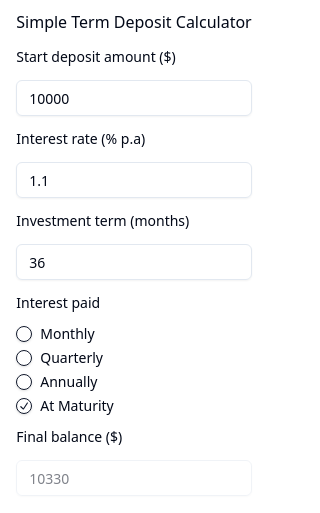
Scenario: Home page › should successfully change deposit amount
Replace the text in the number field with test id "depositAmount-input" with "5000": (134, 98) top-left (16, 80), bottom-right (252, 116)
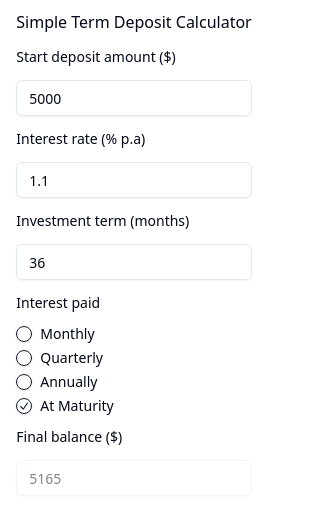
Expected: the number field with test id "interestRate-input" holds "1.1", top-left (16, 162), bottom-right (252, 198)
Expected: the number field with test id "finalBalance-input" holds "5165", top-left (16, 460), bottom-right (252, 496)
